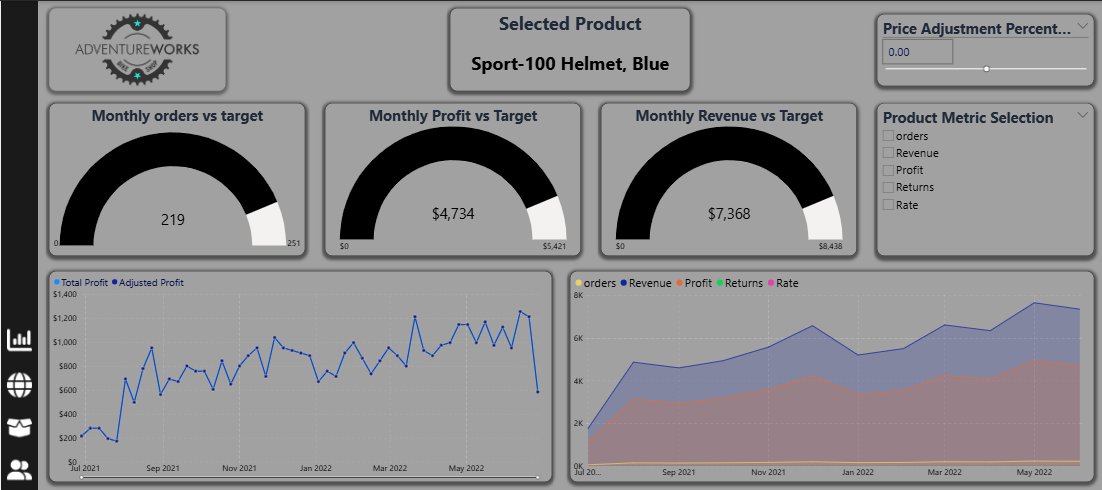

This screenshot's page, from the dashboard's own definition file:
{"tool":"powerbi","page":{"name":"Product Details","canvas":[4500,2000],"ordinal":2},"visuals":[{"type":"shape","box":[0,0,151,2000],"z":0},{"type":"actionButton","box":[20.4,1289.8,110.2,189.1],"z":0,"group":"g1"},{"type":"image","box":[195.9,28.6,722.4,338.8],"z":1000},{"type":"actionButton","box":[20.4,1478.9,110.2,179.9],"z":1000,"group":"g1"},{"type":"gauge","title":"Monthly orders vs target","fields":{"Y":["Measure Table.Total Orders"],"MaxValue":["Measure Table.Order Target"]},"box":[195.9,416.3,1044.9,624.5],"z":2000},{"type":"actionButton","box":[20.4,1658.7,110.2,170.6],"z":2000,"group":"g1"},{"type":"gauge","title":"Monthly Profit vs Target","fields":{"Y":["Measure Table.Total Profit"],"MaxValue":["Measure Table.Profit Target"]},"box":[1322.4,416.3,1044,624.5],"z":3000},{"type":"actionButton","box":[20.4,1829.4,110.2,170.6],"z":3000,"group":"g1"},{"type":"gauge","title":"Monthly Revenue vs Target","fields":{"Y":["Measure Table.Total Revenue"],"MaxValue":["Measure Table.Revenue Target"]},"box":[2449,416.3,1044,624.5],"z":4000},{"type":"card","title":"Selected Product","fields":{"Values":["Min(Product Lookup.ProductName)"]},"box":[1832.7,28.6,979.6,338.8],"z":5000},{"type":"lineChart","fields":{"Category":["Calendar Lookup.Date Hierarchy.Start of Year","Calendar Lookup.Date Hierarchy.Start of Month","Calendar Lookup.Date Hierarchy.Start of Week","Calendar Lookup.Date Hierarchy.Date"],"Y":["Measure Table.Total Profit","Measure Table.Adjusted Profit"]},"box":[195.9,1102,2053.1,861.2],"z":6000},{"type":"areaChart","fields":{"Y":["Measure Table.Total Orders","Measure Table.Total Revenue","Measure Table.Total Profit","Measure Table.Total Returns","Measure Table.Return Rate"],"Category":["Calendar Lookup.Date Hierarchy.Year","Calendar Lookup.Date Hierarchy.Start of Month","Calendar Lookup.Date Hierarchy.Start of Week","Calendar Lookup.Date Hierarchy.Date"]},"box":[2322.4,1102,2138.8,861.2],"z":7000},{"type":"slicer","fields":{"Values":["Price Adjusent Percentage.Price Adjustment Percentage"]},"box":[3575.5,53.1,885.7,293.9],"z":8000},{"type":"slicer","fields":{"Values":["Product Metric Selection.Product Metric Selection"]},"box":[3575.5,416.3,885.7,624.5],"z":9000},{"type":"group","id":"g1","title":"Page Navigation","box":[20.4,1289.8,110.2,710.2],"z":10000}]}

Visuals, with their boxes on the page's 4500x2000 design canvas (x1, y1, x2, y2). These are canvas units, not pixel positions in the 1102x490 screenshot, which may show the page scaled, cropped or inside an application window:
shape: [left=0, top=0, right=151, bottom=2000]
actionButton: [left=20, top=1290, right=131, bottom=1479]
image: [left=196, top=29, right=918, bottom=367]
actionButton: [left=20, top=1479, right=131, bottom=1659]
"Monthly orders vs target" gauge: [left=196, top=416, right=1241, bottom=1041]
actionButton: [left=20, top=1659, right=131, bottom=1829]
"Monthly Profit vs Target" gauge: [left=1322, top=416, right=2366, bottom=1041]
actionButton: [left=20, top=1829, right=131, bottom=2000]
"Monthly Revenue vs Target" gauge: [left=2449, top=416, right=3493, bottom=1041]
"Selected Product" card: [left=1833, top=29, right=2812, bottom=367]
lineChart - Calendar Lookup.Date Hierarchy.Start of Year x Calendar Lookup.Date Hierarchy.Start of Month: [left=196, top=1102, right=2249, bottom=1963]
areaChart - Measure Table.Total Orders x Measure Table.Total Revenue: [left=2322, top=1102, right=4461, bottom=1963]
slicer - Price Adjusent Percentage.Price Adjustment Percentage: [left=3576, top=53, right=4461, bottom=347]
slicer - Product Metric Selection.Product Metric Selection: [left=3576, top=416, right=4461, bottom=1041]
"Page Navigation" group: [left=20, top=1290, right=131, bottom=2000]
